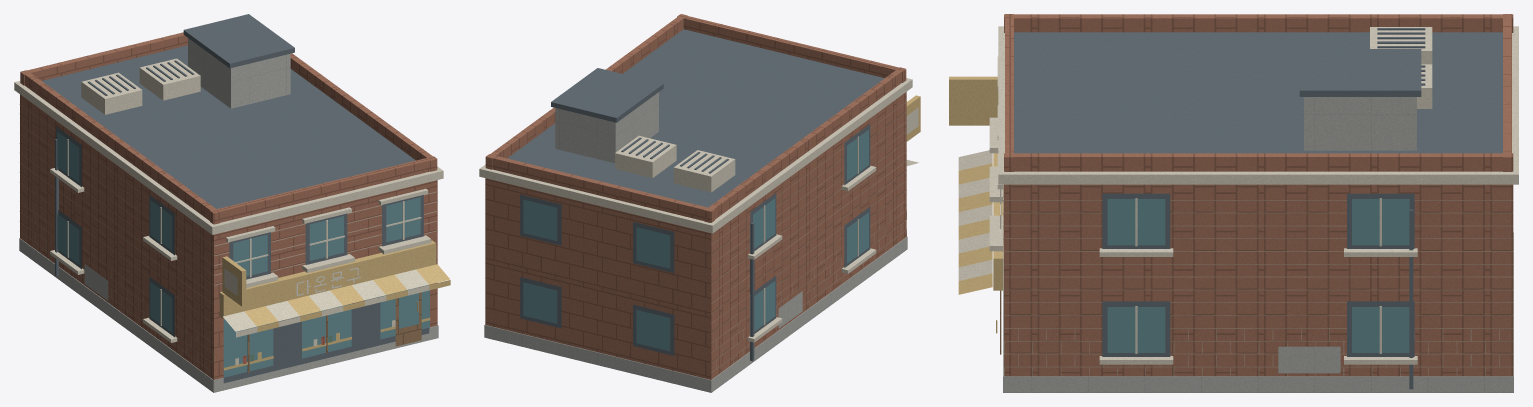
Rendered from q01-stationer.glb.
The picture shows the model from 3 angles, left to right: view 1: azimuth 30°, elevation 25°; view 2: azimuth 150°, elevation 25°; view 3: azimuth 270°, elevation 25°; orthographic projection. The views are drawn at different scales.
Size of the model in its own units: 6.34 by 5.51 by 10.07.
Materials: 11 (10 with a texture image).
